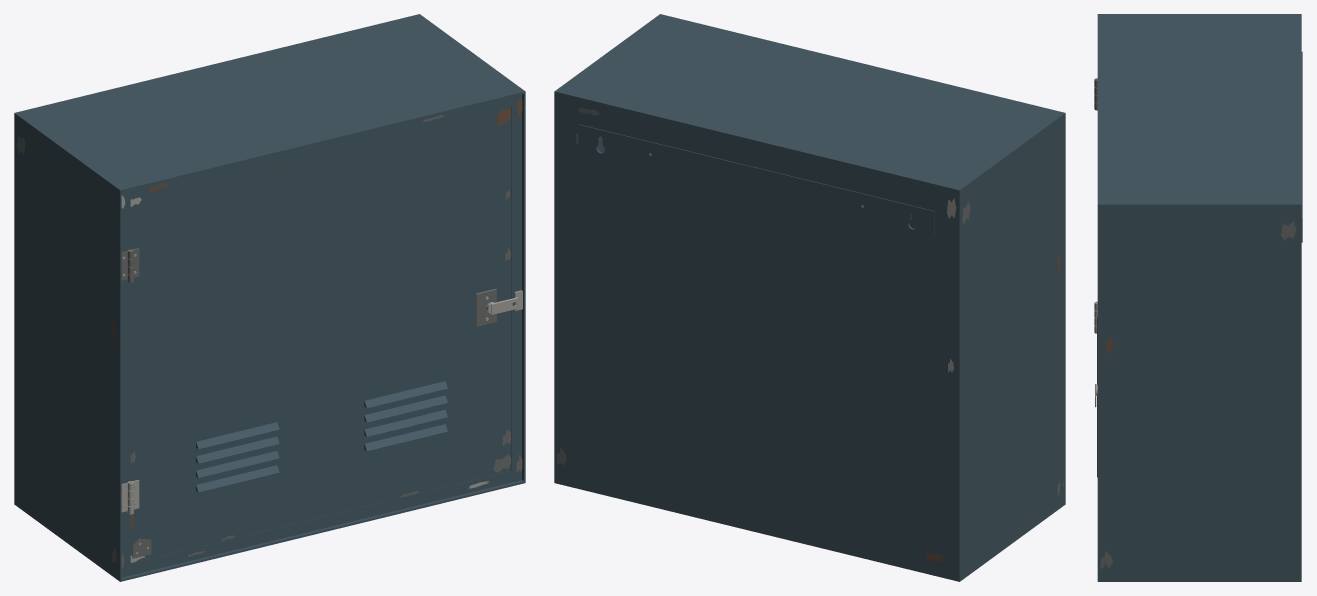
The model's file is kitchen-wall-locker-f39d471cf6ce.glb.
3 views of the same model, side by side, from view 1: azimuth 30°, elevation 25°; view 2: azimuth 150°, elevation 25°; view 3: azimuth 270°, elevation 25° (orthographic). The views are drawn at different scales.
Visible parts, largest first — view 1: enamel-blue, metal, brushed; view 2: enamel-blue; view 3: enamel-blue, metal.
Part boxes in pixels (bbox=[...]): enamel-blue: bbox=[14, 14, 525, 581]; metal: bbox=[17, 115, 522, 568]; brushed: bbox=[121, 195, 522, 562]; enamel-blue: bbox=[554, 14, 1065, 581]; enamel-blue: bbox=[1097, 14, 1302, 581]; metal: bbox=[1094, 78, 1296, 569].
Bounding box in the file's own units: 0.65 × 0.6 × 0.3.
